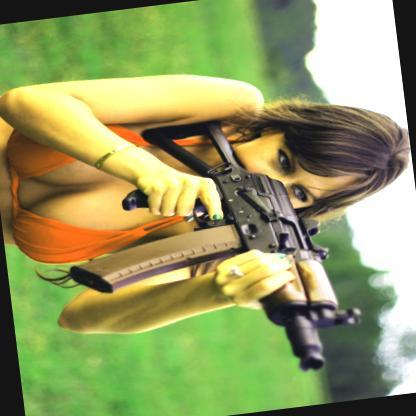rifle: (47, 101, 350, 398)
